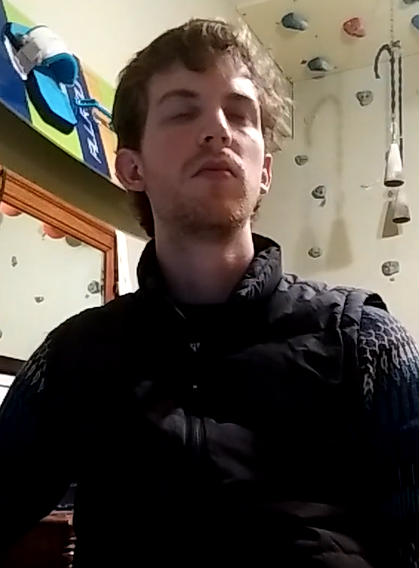Sleeping: (146, 89, 263, 132)
